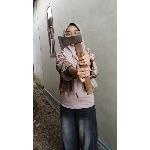Kapak: (56, 35, 98, 97)
